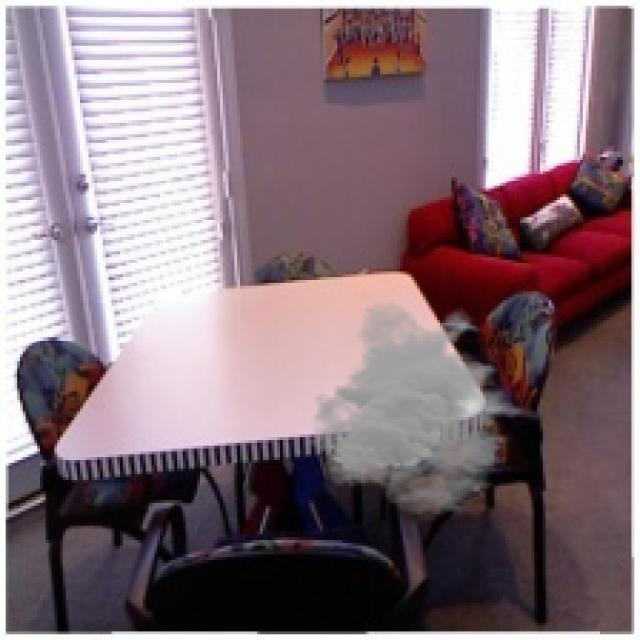Smoke: (303, 300, 532, 517)
